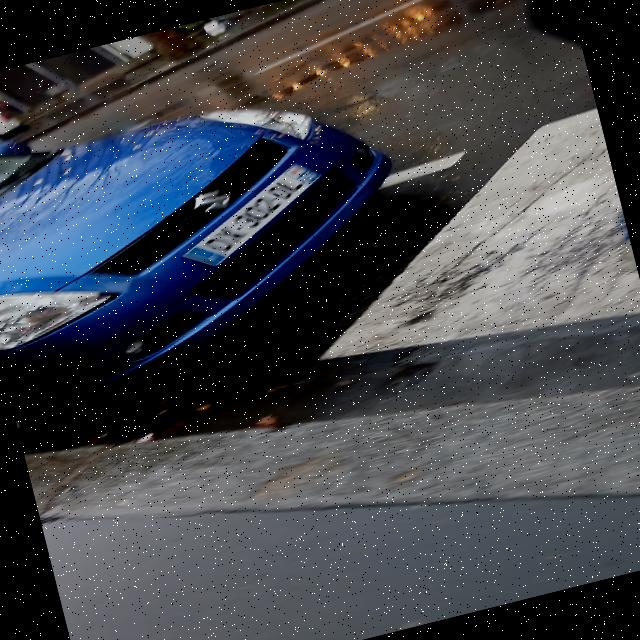Autre: (174, 158, 324, 264)
